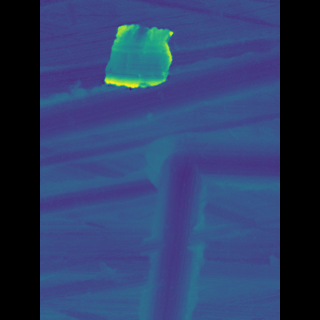Loch: (69, 142, 250, 219), (141, 142, 196, 320), (109, 20, 172, 96)
